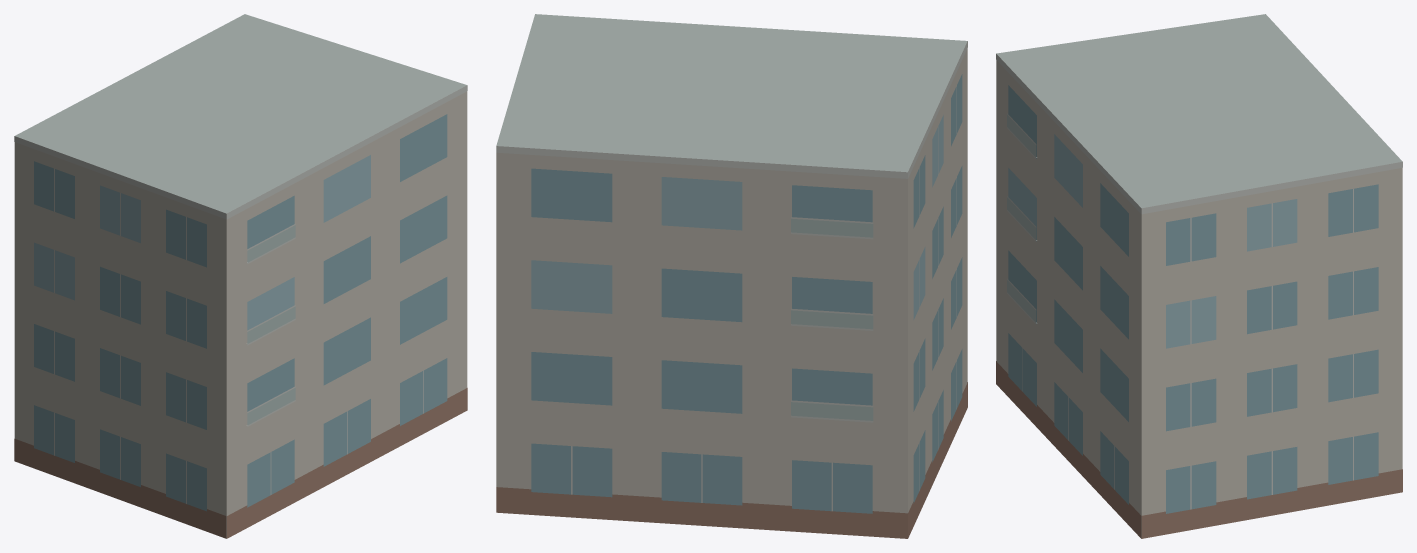
The model's file is survey-upis-32730942.glb.
3 renders of one model, left to right at view 1: azimuth 30°, elevation 25°; view 2: azimuth 150°, elevation 25°; view 3: azimuth 270°, elevation 25°, orthographic. The views are drawn at different scales.
Visible parts, largest first — view 1: survey-upis-32730942.tmp; view 2: survey-upis-32730942.tmp; view 3: survey-upis-32730942.tmp.
Boxes of the visible parts, x1,y1,x2,y2 form: survey-upis-32730942.tmp: (14, 14, 467, 538); survey-upis-32730942.tmp: (496, 14, 967, 538); survey-upis-32730942.tmp: (996, 14, 1402, 538).
Size of the model in its own units: 16.84 by 13.35 by 14.89.
